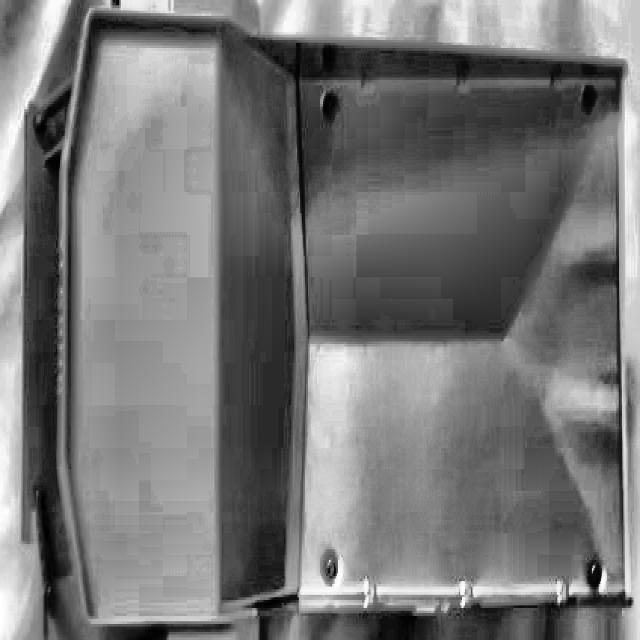dump_truck: (7, 10, 632, 640)
